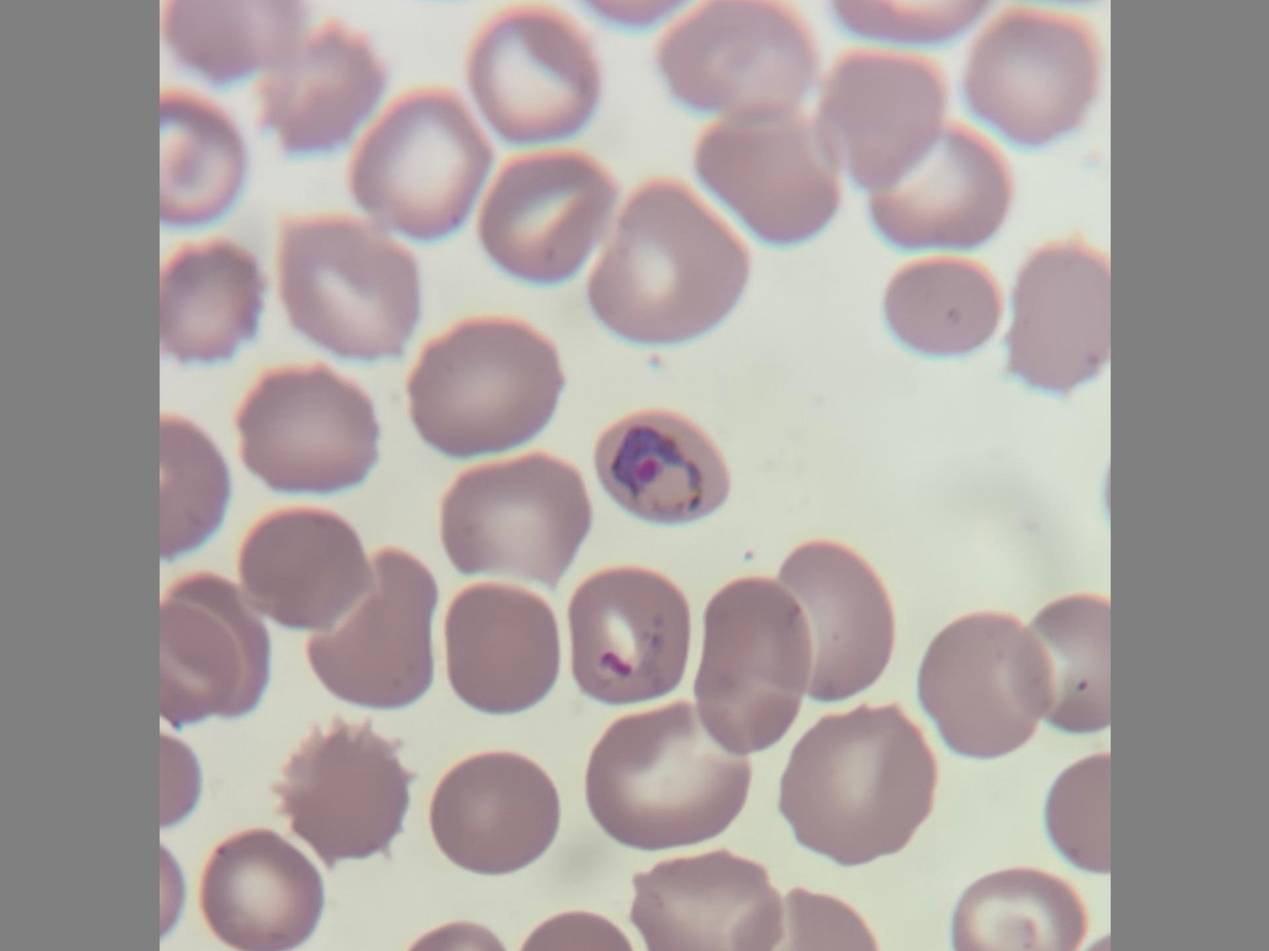Infected: (590, 406, 729, 530)
Uninfected: (590, 177, 746, 339), (784, 703, 936, 863), (586, 706, 748, 846), (273, 201, 419, 356), (348, 82, 488, 242), (410, 314, 565, 458), (762, 534, 897, 696), (306, 547, 438, 711), (696, 98, 849, 239), (912, 609, 1055, 755), (701, 573, 811, 756), (238, 362, 382, 493), (820, 49, 949, 193), (1002, 236, 1118, 395), (443, 459, 593, 581), (485, 146, 617, 284), (872, 115, 1009, 246), (661, 0, 812, 117), (282, 725, 410, 860), (967, 7, 1096, 139), (566, 565, 690, 702), (256, 23, 388, 151), (469, 10, 598, 140), (432, 750, 563, 878), (240, 505, 370, 633), (194, 827, 326, 951), (626, 849, 781, 951), (167, 573, 273, 722), (1011, 590, 1113, 734), (445, 582, 555, 712), (163, 234, 264, 361), (945, 864, 1088, 951), (154, 89, 244, 224), (886, 252, 1002, 356)
